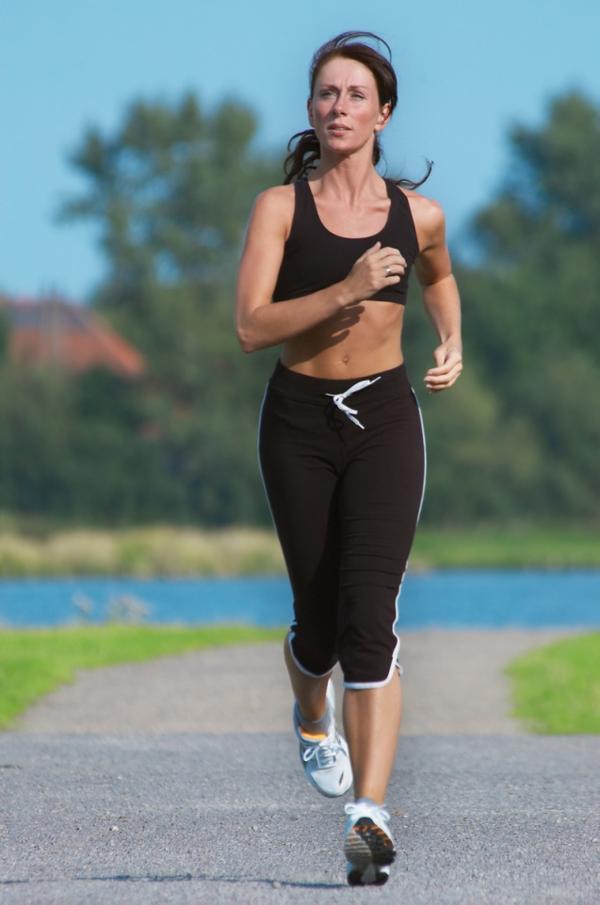person: (236, 31, 464, 887)
